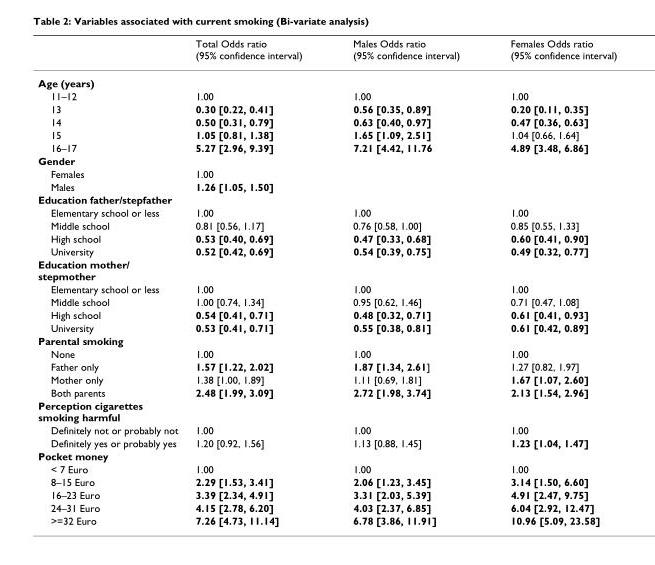table: (37, 37, 616, 526)
table column: (326, 37, 484, 526), (37, 37, 186, 526), (186, 37, 326, 526), (484, 37, 616, 526)
table column header: (37, 37, 616, 68)
table projected row header: (37, 257, 616, 282), (37, 398, 616, 423), (37, 68, 616, 89), (37, 153, 616, 166), (37, 192, 616, 205), (37, 333, 616, 346), (37, 449, 616, 462)
table row: (37, 37, 616, 68), (37, 257, 616, 282), (37, 398, 616, 423), (37, 68, 616, 89), (37, 89, 616, 102), (37, 102, 616, 115), (37, 115, 616, 128), (37, 140, 616, 153), (37, 153, 616, 166), (37, 166, 616, 179), (37, 179, 616, 192), (37, 192, 616, 205), (37, 205, 616, 218), (37, 218, 616, 231), (37, 231, 616, 244), (37, 244, 616, 257), (37, 282, 616, 295), (37, 307, 616, 320), (37, 320, 616, 333), (37, 333, 616, 346), (37, 346, 616, 359), (37, 359, 616, 372), (37, 372, 616, 385), (37, 385, 616, 398), (37, 423, 616, 436), (37, 436, 616, 449), (37, 449, 616, 462), (37, 474, 616, 487), (37, 487, 616, 500), (37, 500, 616, 513), (37, 513, 616, 526), (37, 128, 616, 140), (37, 295, 616, 307), (37, 462, 616, 474)
